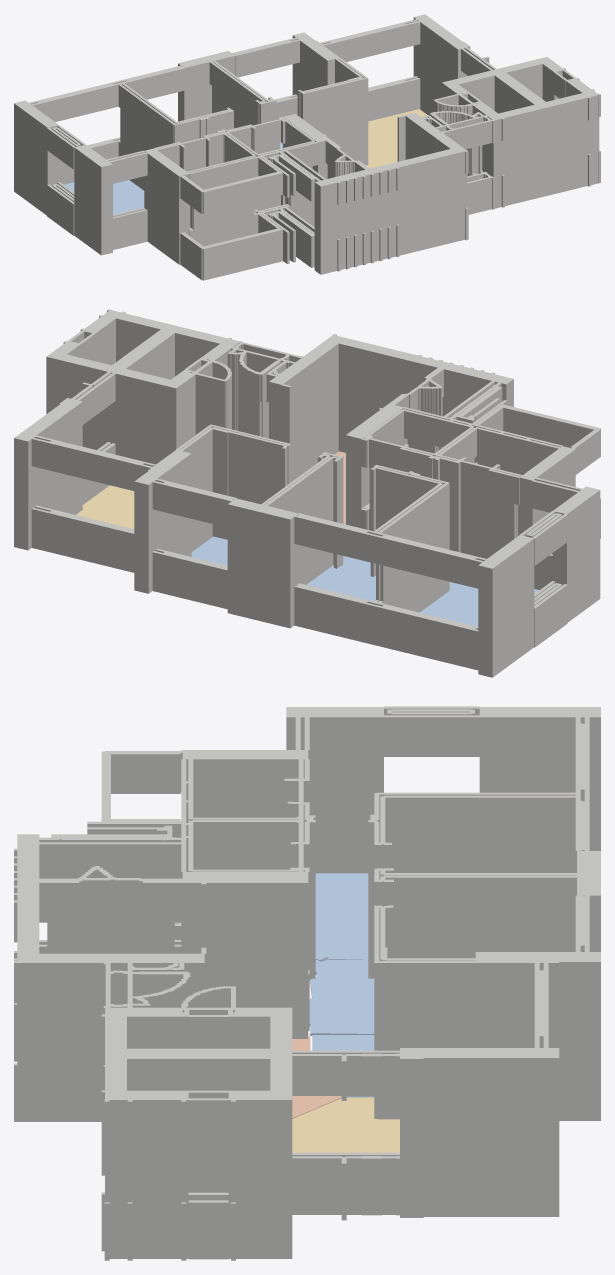
3 views of the same model, one above another, from view 1: azimuth 30°, elevation 25°; view 2: azimuth 150°, elevation 25°; view 3: azimuth 270°, elevation 25° (orthographic). The views are drawn at different scales.
Visible parts, largest first — view 1: walls, room:living:2, room:bedroom:0; view 2: walls, room:bedroom:1, room:living:2, room:bedroom:0, room:bedroom:5; view 3: walls, room:living:2, room:bedroom:0, room:bedroom:1, room:bedroom:5, room:kitchen:10.
Boxes of the visible parts, x1,y1,x2,y2 form: walls: [14, 14, 600, 280]; room:living:2: [366, 109, 427, 168]; room:bedroom:0: [64, 180, 144, 214]; walls: [14, 309, 600, 677]; room:bedroom:1: [306, 556, 375, 601]; room:living:2: [76, 485, 134, 528]; room:bedroom:0: [420, 582, 539, 626]; room:bedroom:5: [191, 536, 227, 565]; walls: [14, 706, 600, 1260]; room:living:2: [292, 1097, 399, 1152]; room:bedroom:0: [315, 873, 368, 961]; room:bedroom:1: [309, 960, 374, 1035]; room:bedroom:5: [312, 1035, 374, 1097]; room:kitchen:10: [292, 1034, 341, 1118].
Bounding box in the file's own units: 14.92 × 2.8 × 9.37.
